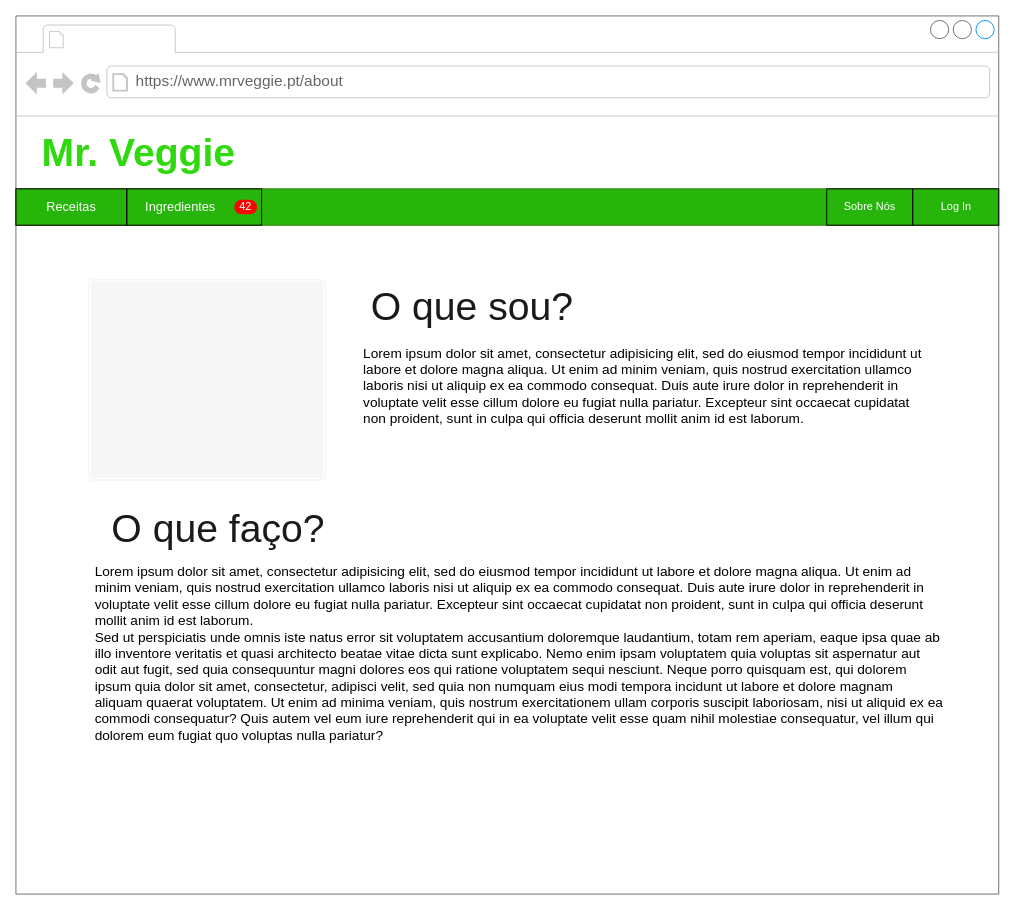
This 1015x910 diagram has some shape labels left out. Each missing label, with the box of its shape:
Image: (87, 278, 326, 480)
Receita: (70, 26, 207, 51)
